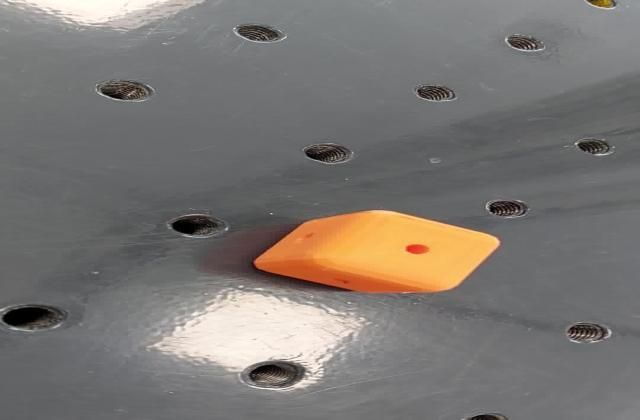cube: (243, 207, 510, 296)
